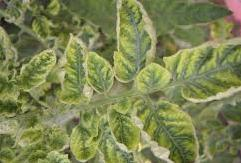Tomato leaf yellow virus: (133, 91, 208, 163), (179, 24, 241, 104), (106, 0, 157, 82), (60, 27, 97, 102), (18, 49, 54, 95), (109, 109, 144, 154), (69, 113, 101, 162), (85, 53, 114, 95), (24, 143, 67, 163), (33, 13, 52, 43)
